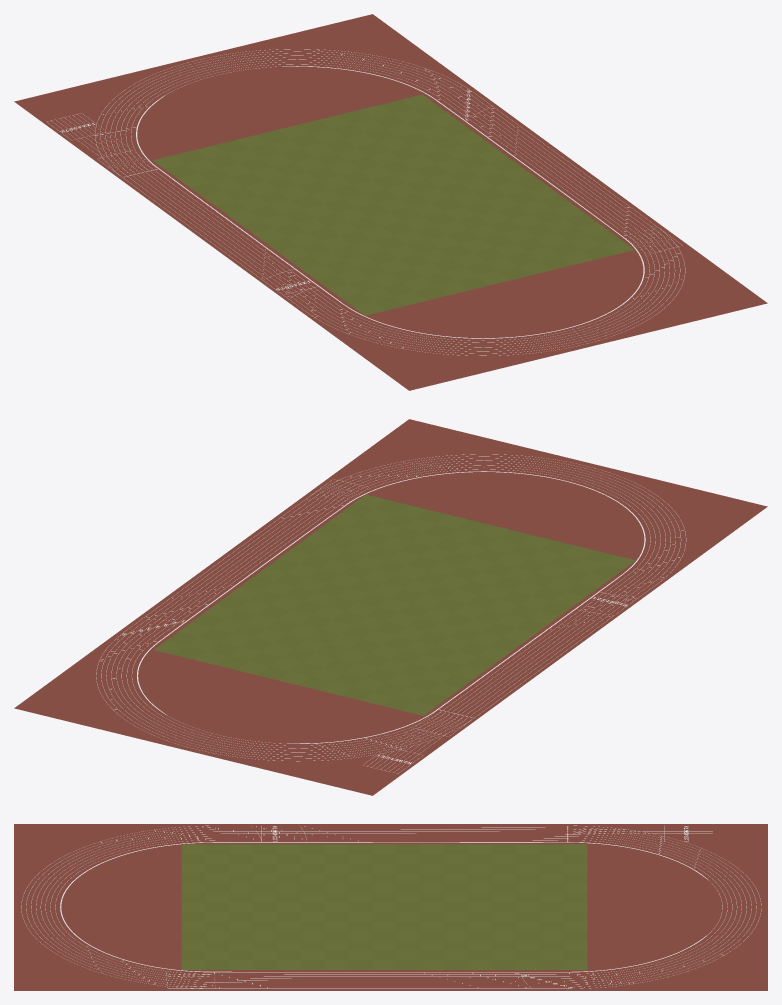
The model's file is AthleticsTrack.fbx.
3 renders of one model, top to bottom at view 1: azimuth 30°, elevation 25°; view 2: azimuth 150°, elevation 25°; view 3: azimuth 270°, elevation 25°, orthographic. The views are drawn at different scales.
Parts seen in each view (by area): view 1: TrackPlane, TrackLines; view 2: TrackPlane, TrackLines; view 3: TrackPlane, TrackLines.
Part boxes in pixels (x1,y1,x2,y2): TrackPlane: (14, 14, 767, 390); TrackLines: (47, 49, 685, 355); TrackPlane: (14, 419, 767, 795); TrackLines: (96, 454, 686, 773); TrackPlane: (14, 824, 767, 990); TrackLines: (21, 825, 761, 988).
Size of the model in its own units: 9396 by 4 by 17930.
